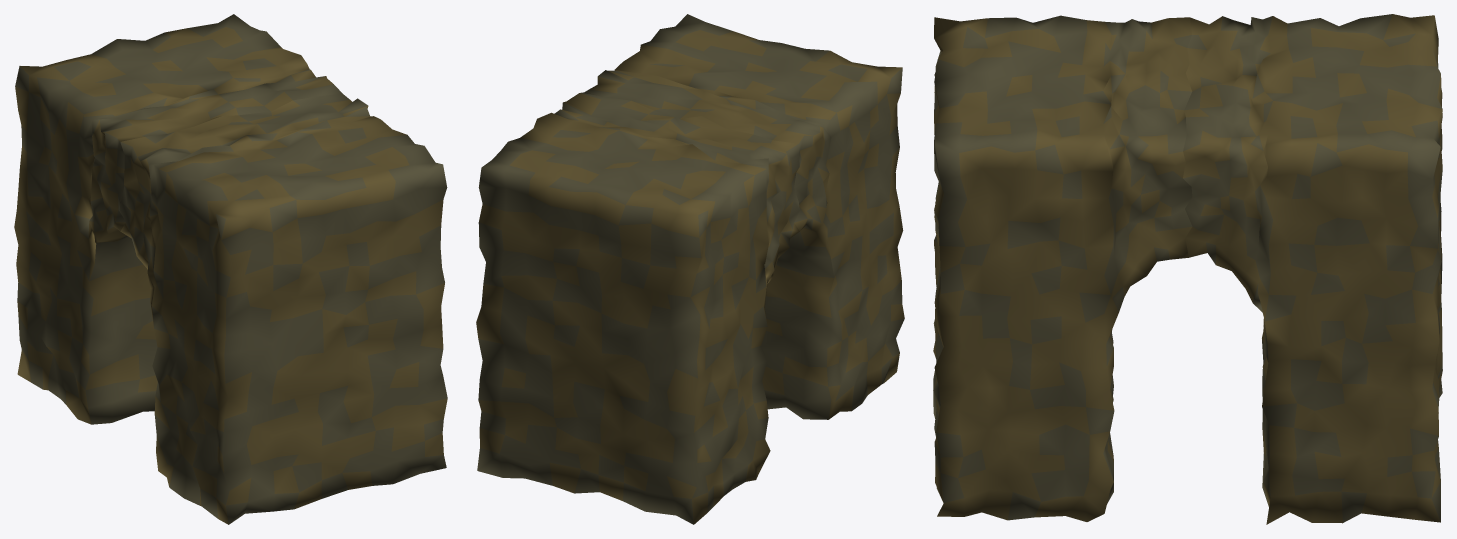
File: Bridge_Bumpy.fbx
3 renders of one model, left to right at view 1: azimuth 30°, elevation 25°; view 2: azimuth 150°, elevation 25°; view 3: azimuth 270°, elevation 25°, orthographic. The views are drawn at different scales.
Parts seen in each view (by area): view 1: Bridge_a_complex; view 2: Bridge_a_complex; view 3: Bridge_a_complex.
Part boxes in pixels (x1,y1,x2,y2): Bridge_a_complex: (14, 14, 447, 524); Bridge_a_complex: (476, 14, 904, 524); Bridge_a_complex: (933, 14, 1442, 524).
Bounding box in the file's own units: 5.73 × 9.23 × 7.6.
